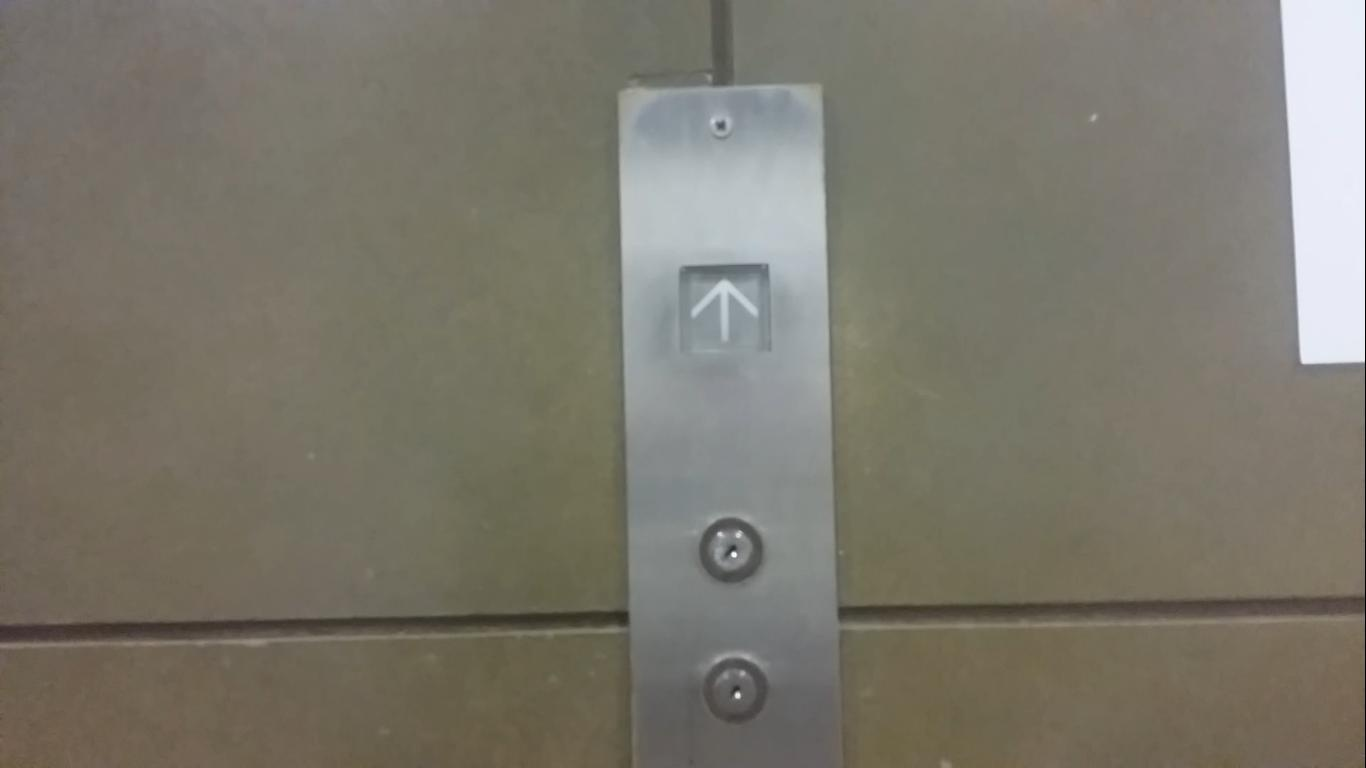keyhole: (698, 652, 775, 728), (697, 513, 766, 586)
up: (677, 263, 774, 362)
